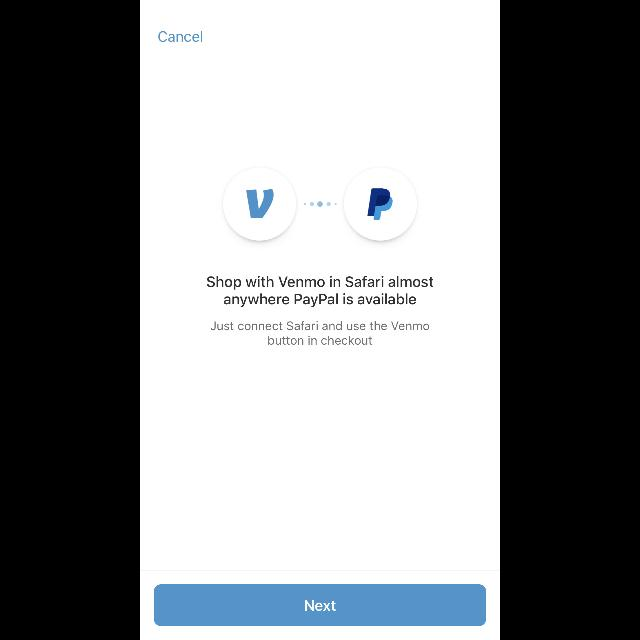image: (223, 167, 417, 241)
text: (207, 275, 433, 307), (211, 321, 429, 345), (159, 32, 203, 42)
textbutton: (154, 584, 486, 626)
